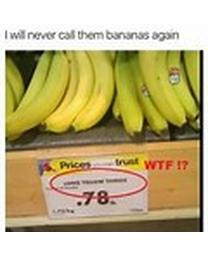banana: (5, 50, 199, 137)
